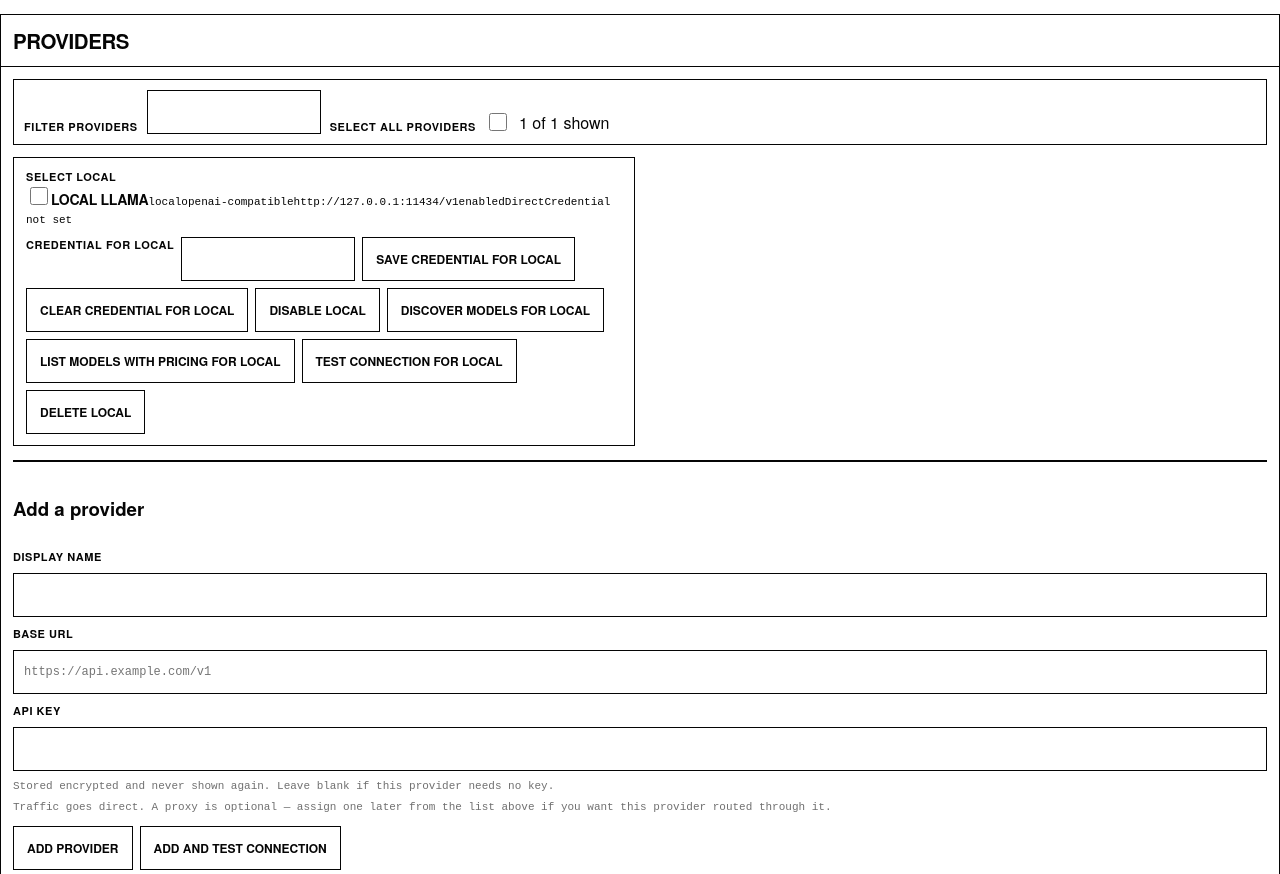
Test: ProvidersPanel › refuses to submit an empty credential
This screenshot has width=1280, height=874.
Expected: the text "Local Llama" is shown, [51,189,148,209]
Click the button "Save credential for local".
click(469, 259)  # box [362,237,575,281]
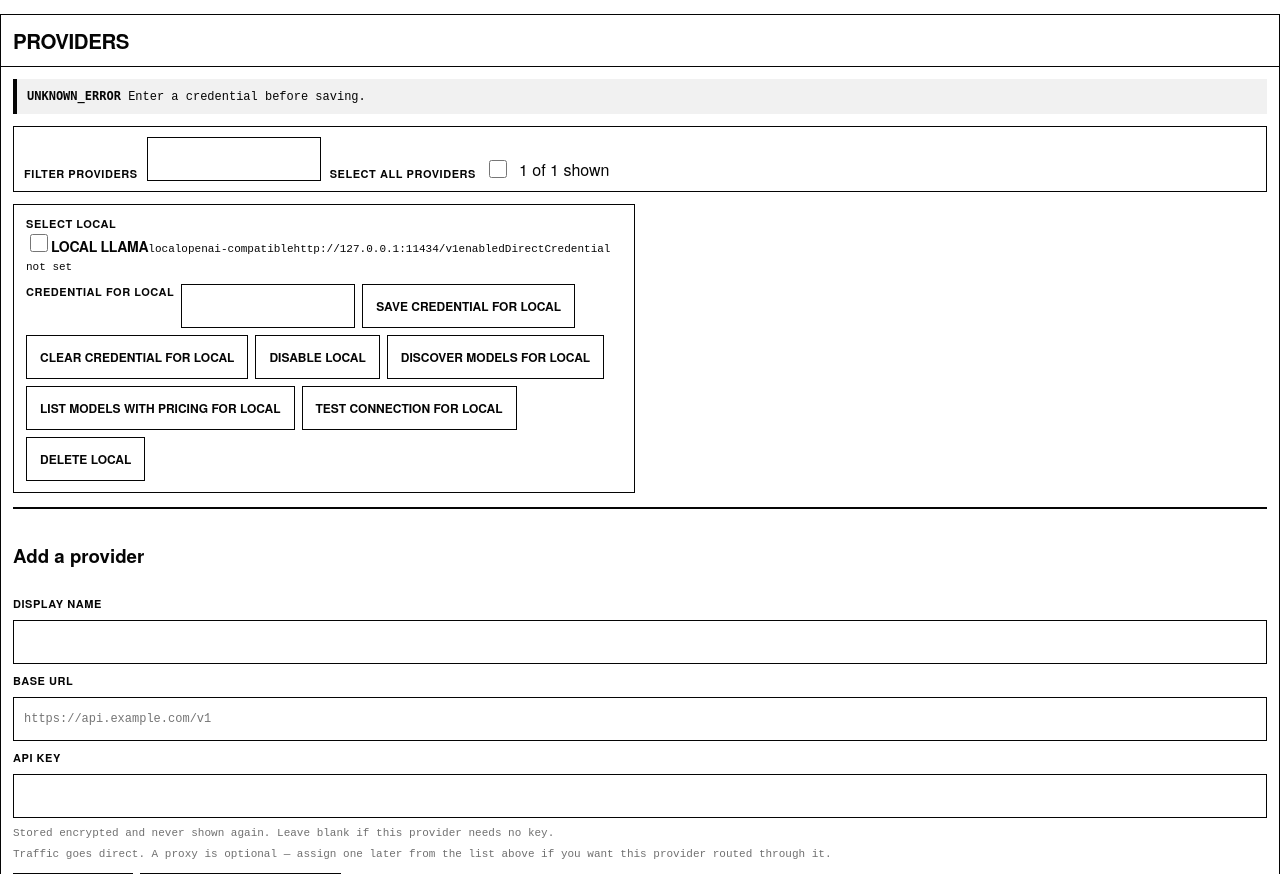
Result: the message "unknown_error Enter a credential before saving." is shown at [13,79,1267,114]
